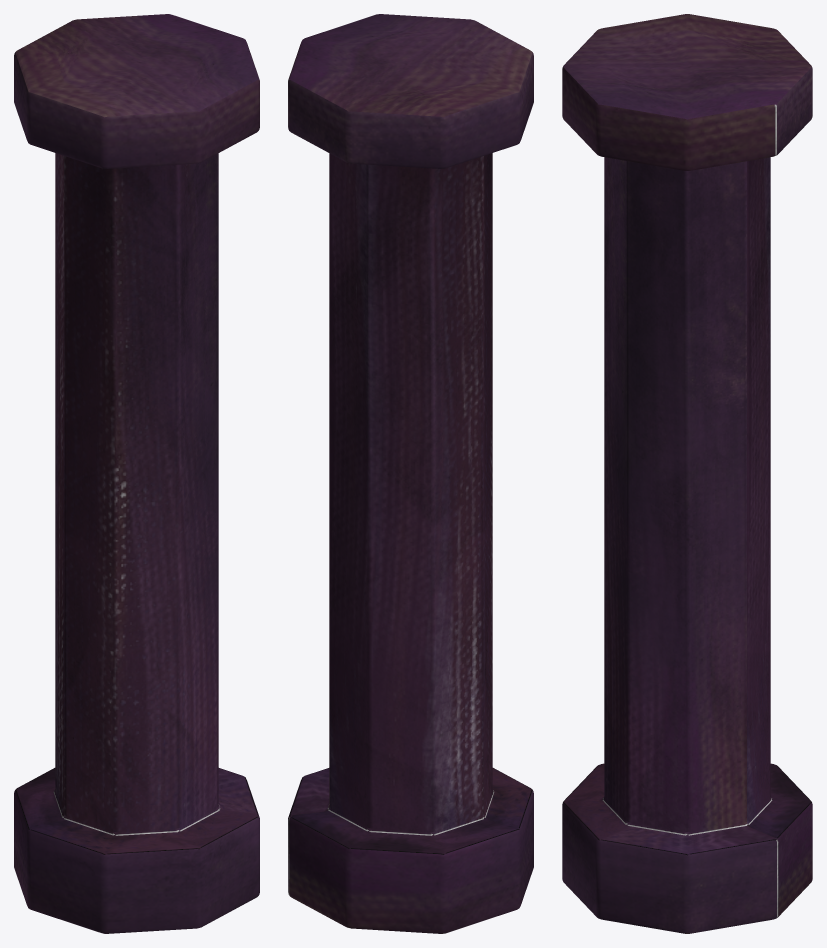
File: MANOR_PILLAR_THIN_001.obj
3 renders of one model, left to right at view 1: azimuth 30°, elevation 25°; view 2: azimuth 150°, elevation 25°; view 3: azimuth 270°, elevation 25°, orthographic.
Visible parts, largest first — view 1: MANOR_PILLAR_THIN_001; view 2: MANOR_PILLAR_THIN_001; view 3: MANOR_PILLAR_THIN_001.
Part boxes in pixels (x1=…): MANOR_PILLAR_THIN_001: x1=14, y1=14, x2=259, y2=933; MANOR_PILLAR_THIN_001: x1=288, y1=14, x2=533, y2=933; MANOR_PILLAR_THIN_001: x1=562, y1=14, x2=812, y2=933.
Size of the model in its own units: 0.8335 by 3 by 0.8335.
